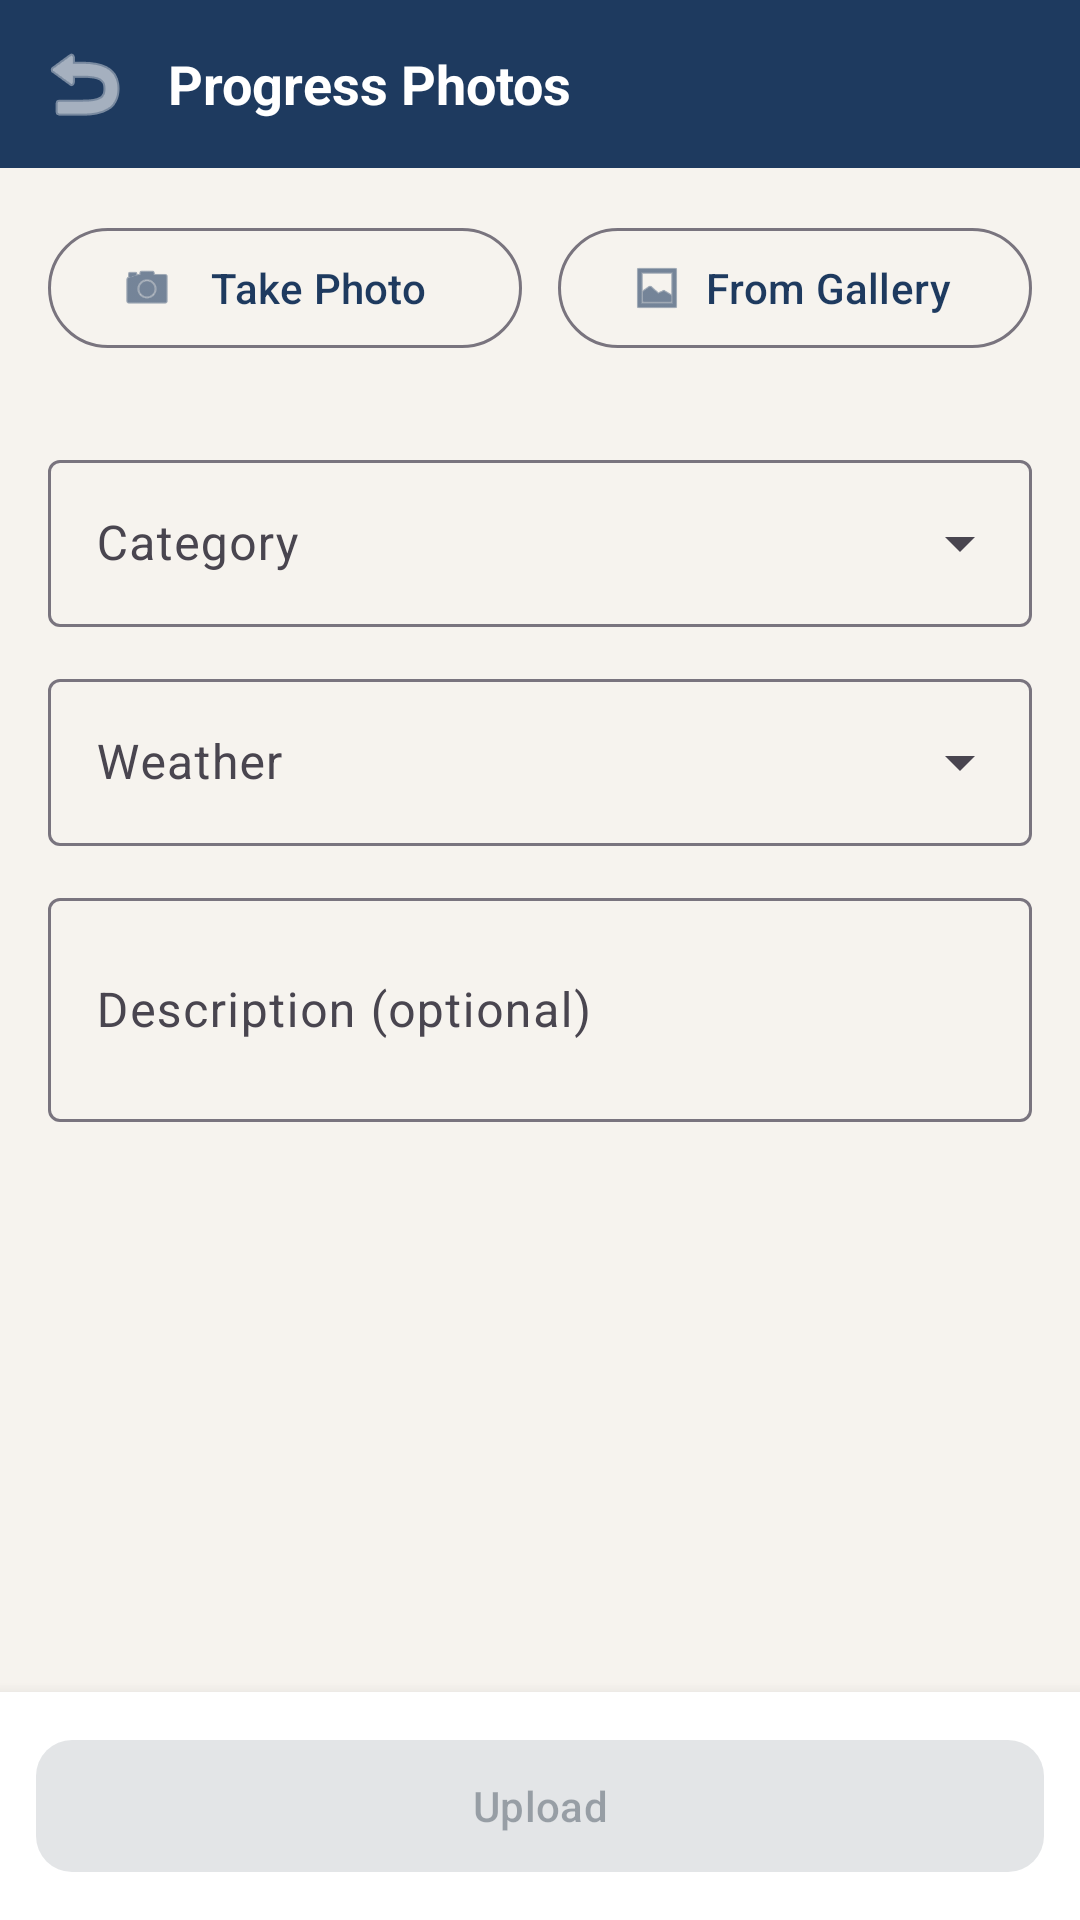

Icon click points for this 1080*1920 phone screenshot, format [x,y]:
Back: [85,84]
